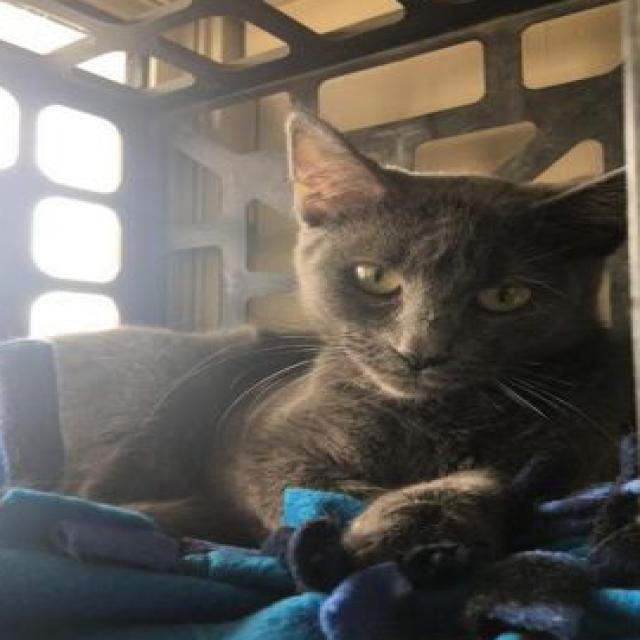Russian Blue: (0, 103, 631, 573)
